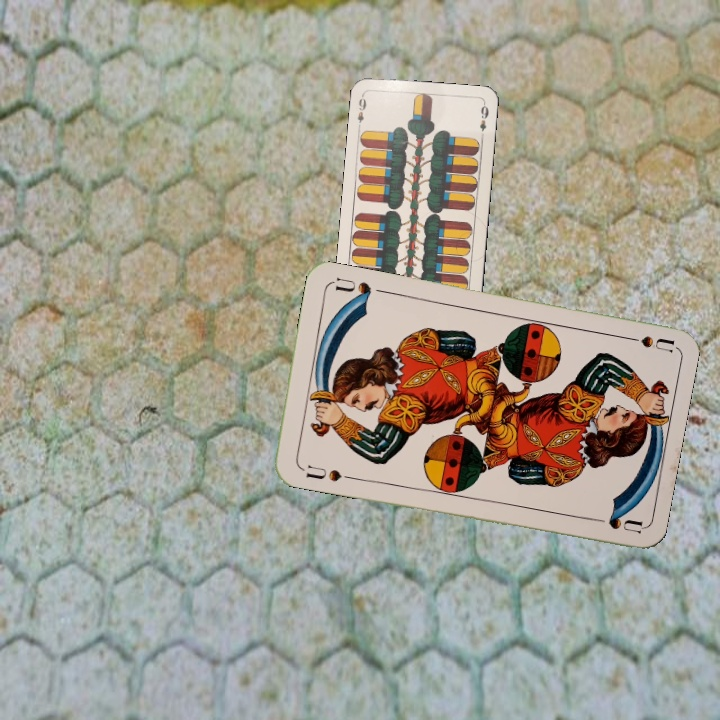E9: (353, 91, 369, 131)
SU: (615, 331, 675, 354), (296, 461, 355, 484)
